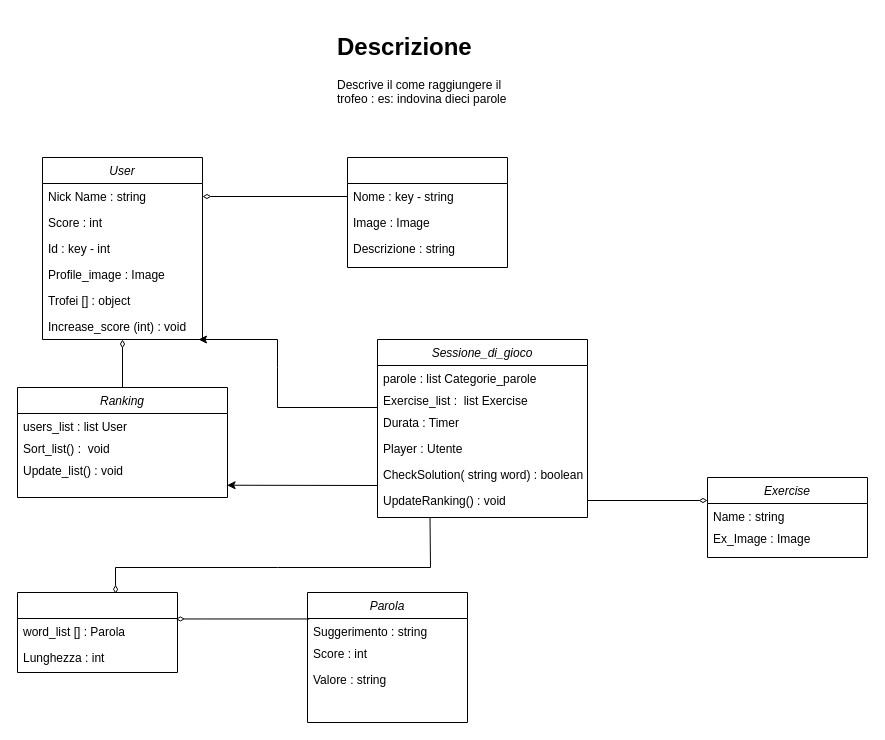
This 885x740 diagram has some shape labels left out. The box of each missing label's shape, as (x1, y1, x2, y2) in pixels:
Categorie_Parole: (16, 592, 178, 672)
Trophi: (346, 156, 508, 268)
